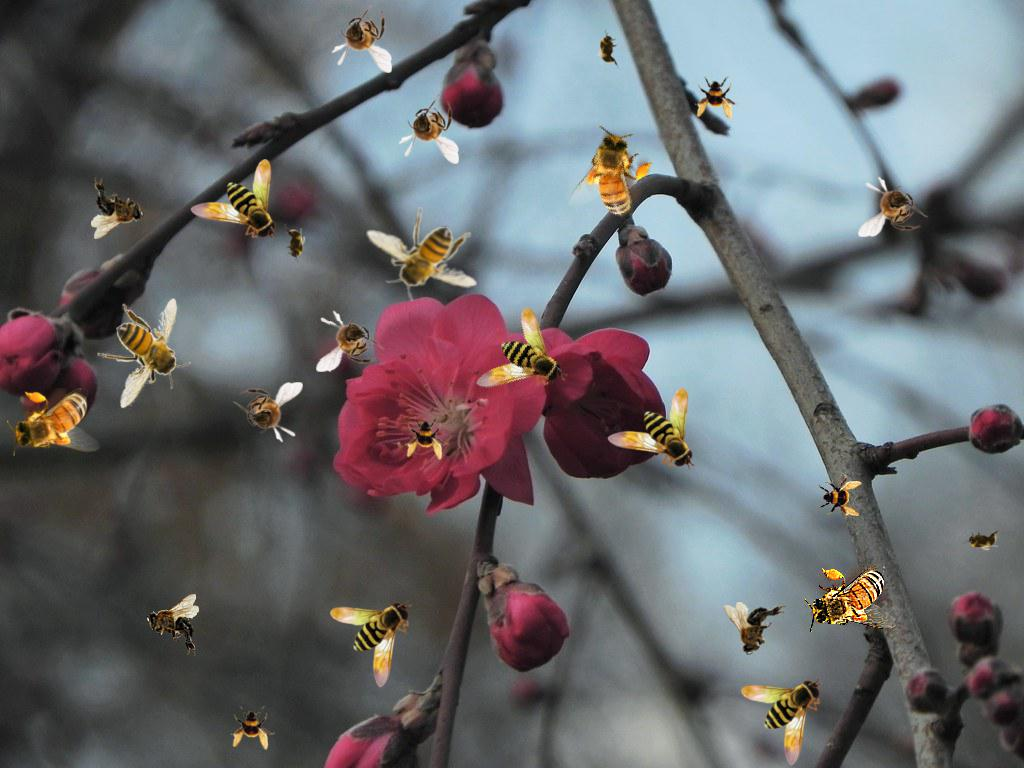Bee: (456, 303, 570, 413), (562, 119, 664, 234), (97, 298, 191, 409), (366, 207, 477, 301), (190, 159, 278, 241), (607, 388, 695, 470), (330, 600, 412, 688), (741, 678, 823, 766), (7, 388, 100, 456), (804, 565, 897, 633), (312, 307, 387, 373), (331, 3, 392, 73), (233, 382, 303, 443), (858, 176, 928, 237), (398, 94, 459, 164), (724, 602, 786, 655), (91, 177, 144, 239), (146, 594, 199, 656), (695, 76, 739, 120), (231, 706, 275, 750), (818, 474, 862, 518), (405, 416, 449, 460), (597, 29, 619, 69), (284, 224, 306, 264), (962, 529, 1002, 551)
